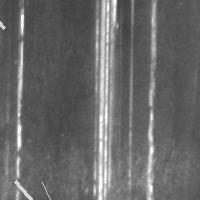scratches: (88, 1, 127, 197), (140, 1, 161, 196), (14, 10, 29, 183), (37, 177, 85, 200), (10, 176, 46, 200), (0, 0, 9, 33)
